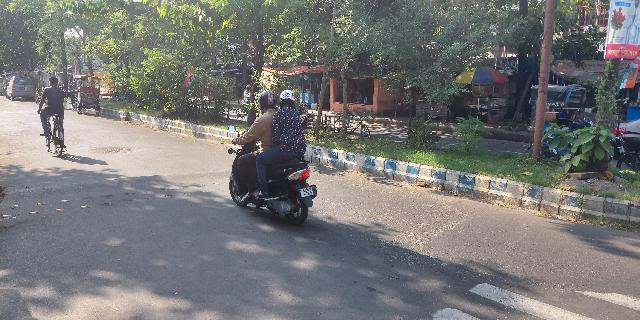Cycle: (30, 77, 82, 158)
Motorbike: (226, 93, 332, 229)
